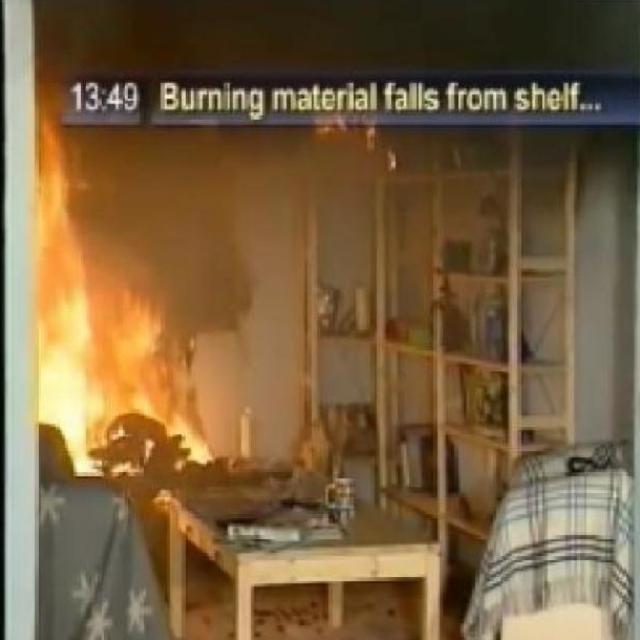smoke: (25, 92, 216, 478)
